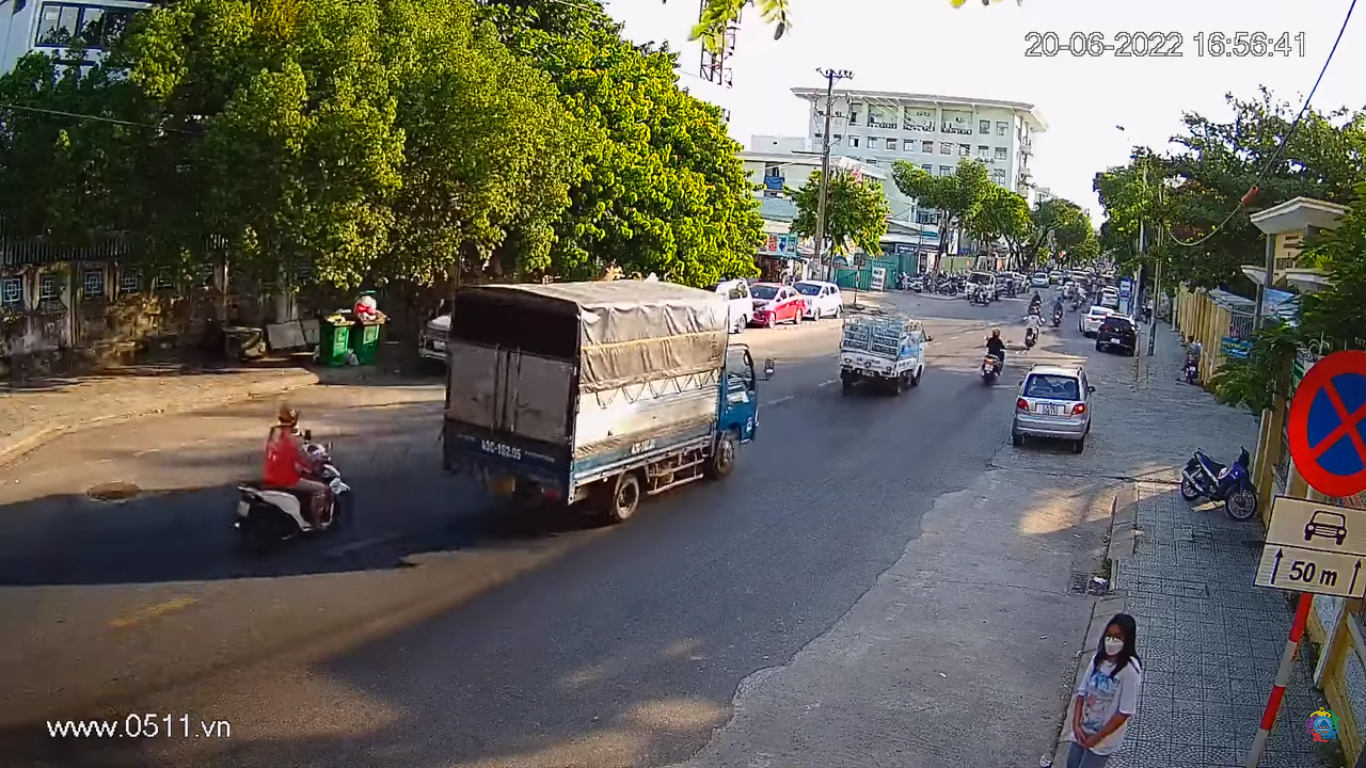truck: (440, 277, 776, 529)
